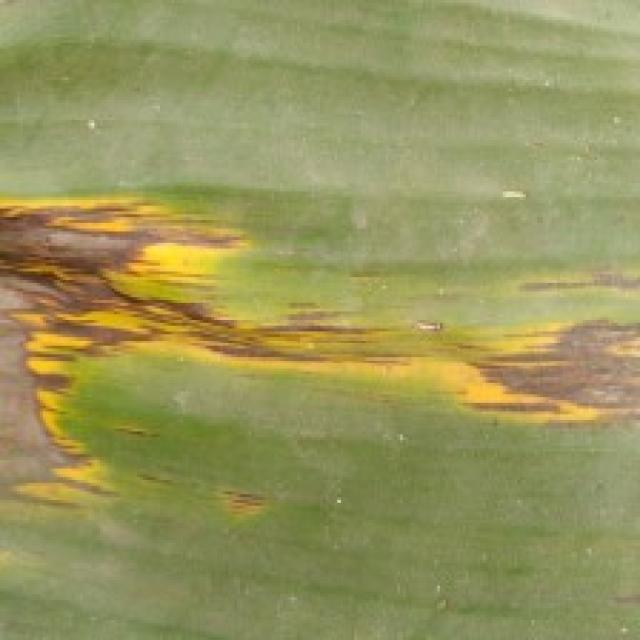Early_leaf_spot: (0, 166, 640, 521)
